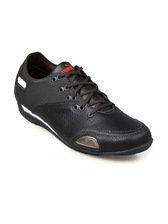shoes: (16, 48, 158, 159)
